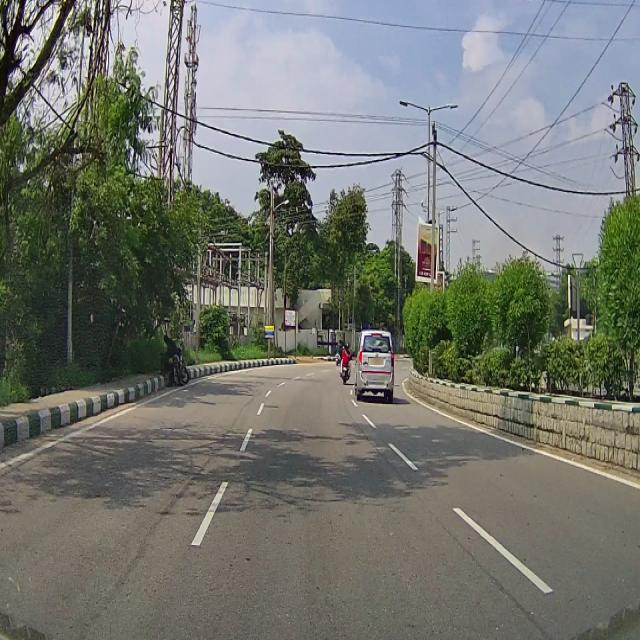car ahead at: (353, 328, 397, 408)
